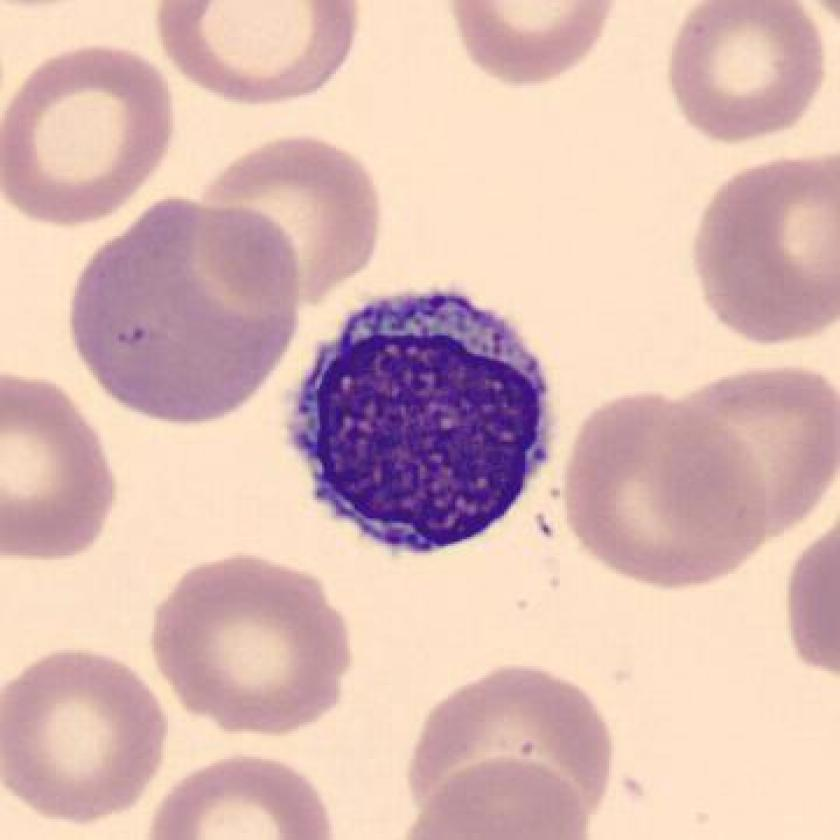lymphocyte: (284, 274, 571, 573)
